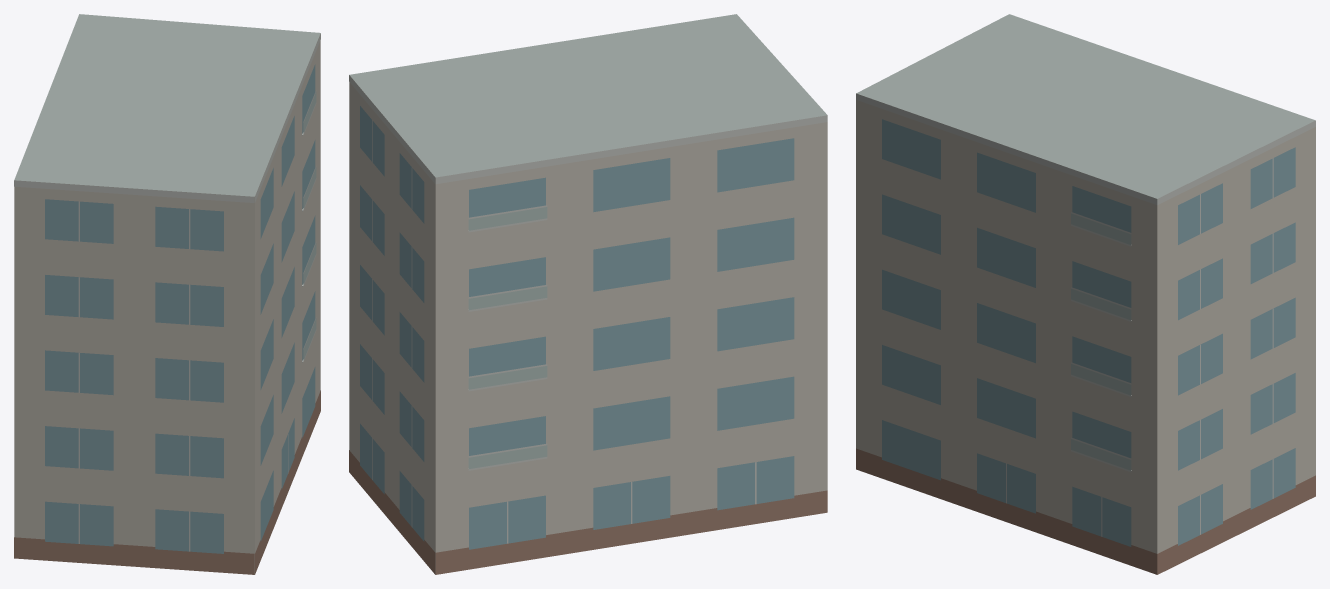
File: survey-upis-32887751.glb
3 renders of one model, left to right at view 1: azimuth 30°, elevation 25°; view 2: azimuth 150°, elevation 25°; view 3: azimuth 270°, elevation 25°, orthographic. The views are drawn at different scales.
Visible parts, largest first — view 1: survey-upis-32887751.tmp; view 2: survey-upis-32887751.tmp; view 3: survey-upis-32887751.tmp.
Boxes of the visible parts, x1,y1,x2,y2 form: survey-upis-32887751.tmp: (14,14,320,574); survey-upis-32887751.tmp: (349,14,827,574); survey-upis-32887751.tmp: (856,14,1315,574).
Size of the model in its own units: 15.25 by 14.45 by 16.02.
